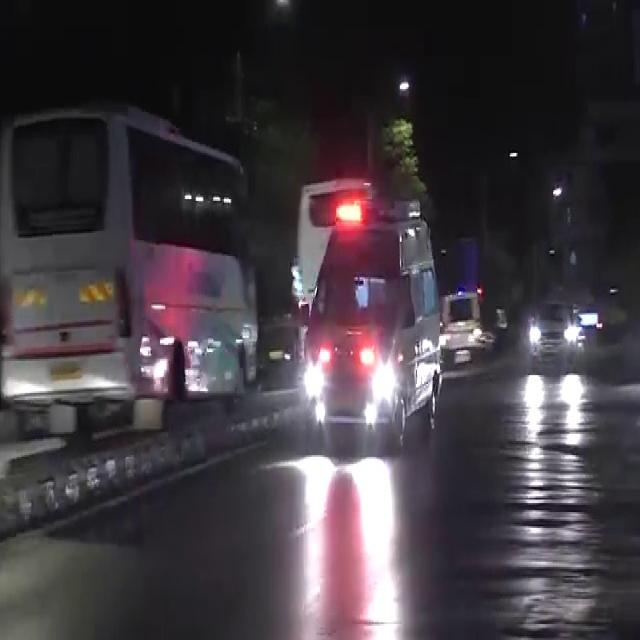ambulance: (307, 202, 438, 432)
